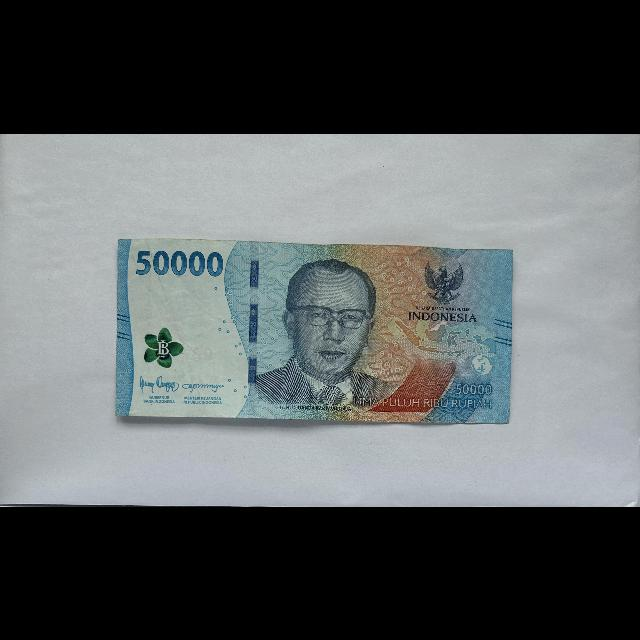Asli-50k: (114, 237, 514, 426)
Tinta-Asli-50k: (144, 325, 185, 368)
